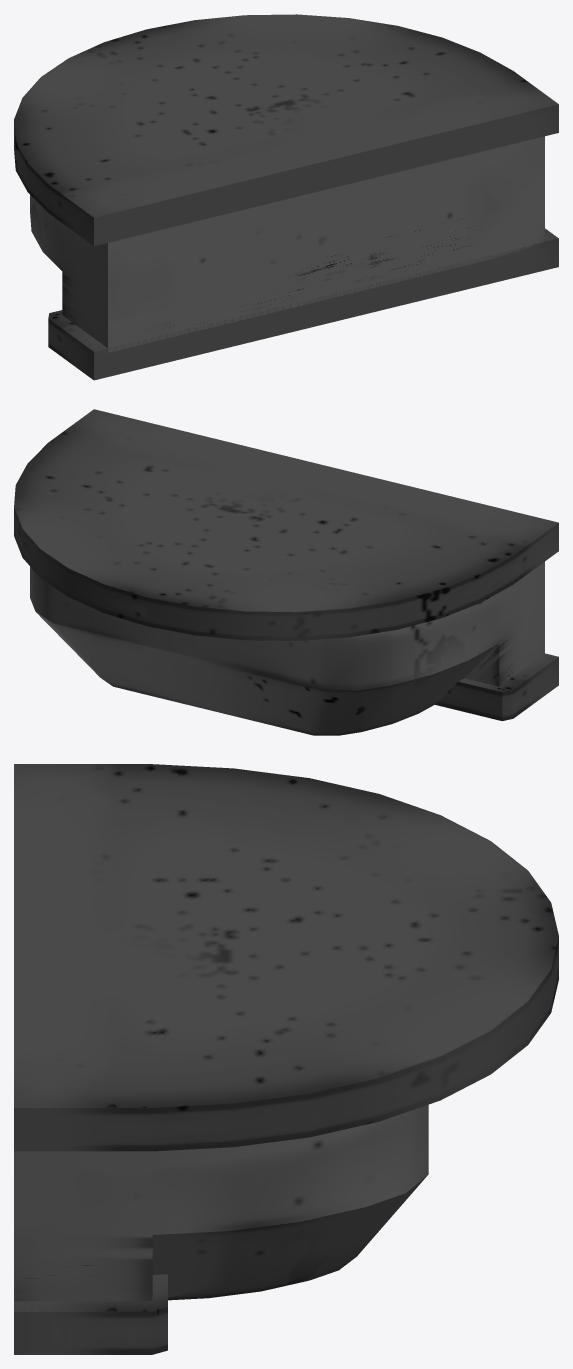
Rendered from Platform_2x3_Cap_Round_v1.fbx.
3 renders of one model, top to bottom at view 1: azimuth 30°, elevation 25°; view 2: azimuth 150°, elevation 25°; view 3: azimuth 270°, elevation 25°, orthographic. The views are drawn at different scales.
Parts seen in each view (by area): view 1: Platform 2x3 Cap Round v1; view 2: Platform 2x3 Cap Round v1; view 3: Platform 2x3 Cap Round v1.
Boxes of the visible parts, left/top/right/bottom form: Platform 2x3 Cap Round v1: left=14, top=14, right=558, bottom=380; Platform 2x3 Cap Round v1: left=14, top=409, right=558, bottom=735; Platform 2x3 Cap Round v1: left=14, top=764, right=558, bottom=1354.
Bounding box in the file's own units: 298 × 99.96 × 200.
